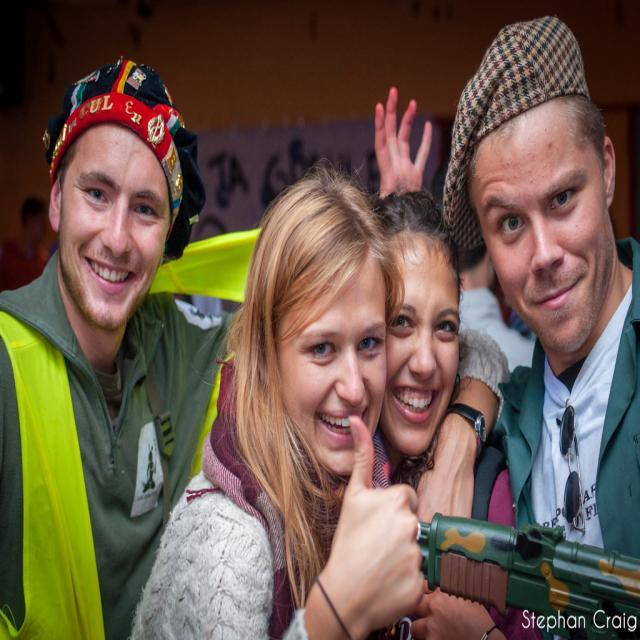weapon: (421, 476, 640, 628)
